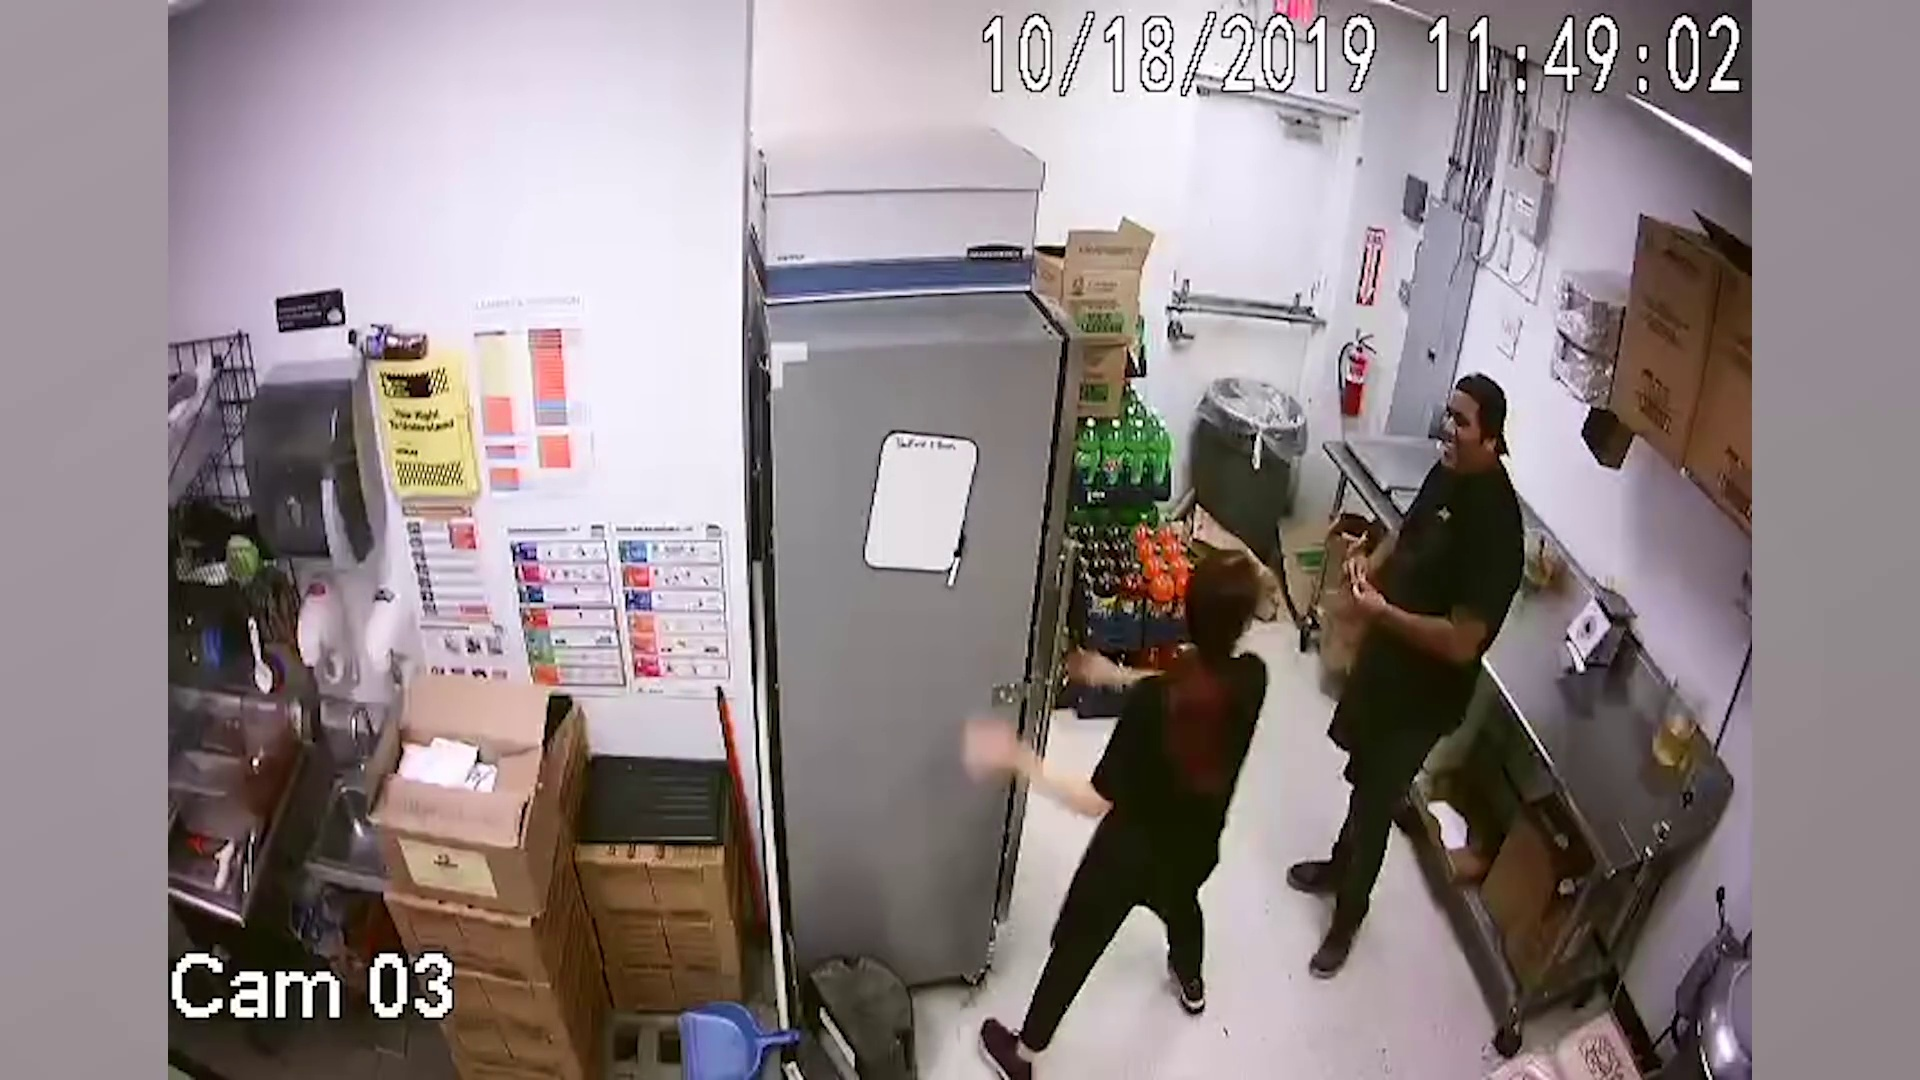face: (1440, 404, 1490, 467)
